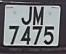4: (19, 25, 32, 46)
5: (43, 24, 56, 47)
7: (31, 23, 44, 47), (8, 24, 21, 46)
J: (20, 6, 33, 27)
M: (32, 5, 46, 28)
